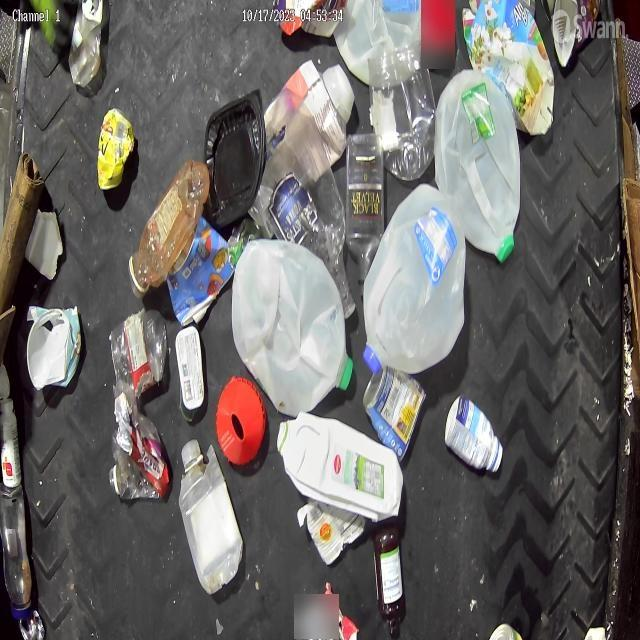milk_jug: (230, 238, 353, 416), (362, 183, 465, 377), (432, 68, 524, 266), (276, 412, 402, 526), (334, 0, 428, 94)
non_white_jug: (460, 0, 556, 137)
plastic_bottle: (0, 487, 36, 615)
